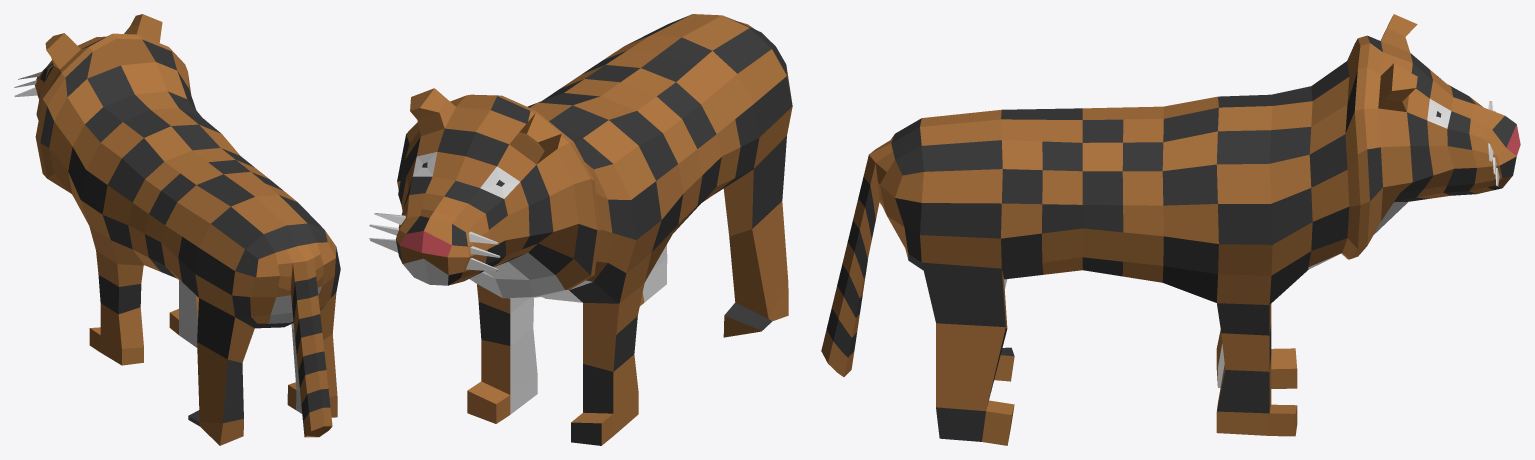
The model's file is Tiger.fbx.
3 renders of one model, left to right at view 1: azimuth 30°, elevation 25°; view 2: azimuth 150°, elevation 25°; view 3: azimuth 270°, elevation 25°, orthographic. The views are drawn at different scales.
Visible parts, largest first — view 1: Cube; view 2: Cube; view 3: Cube.
Boxes of the visible parts, x1,y1,x2,y2 form: Cube: (14,14,340,445); Cube: (369,14,792,445); Cube: (821,14,1520,445).
Bounding box in the file's own units: 178 × 312 × 538.
